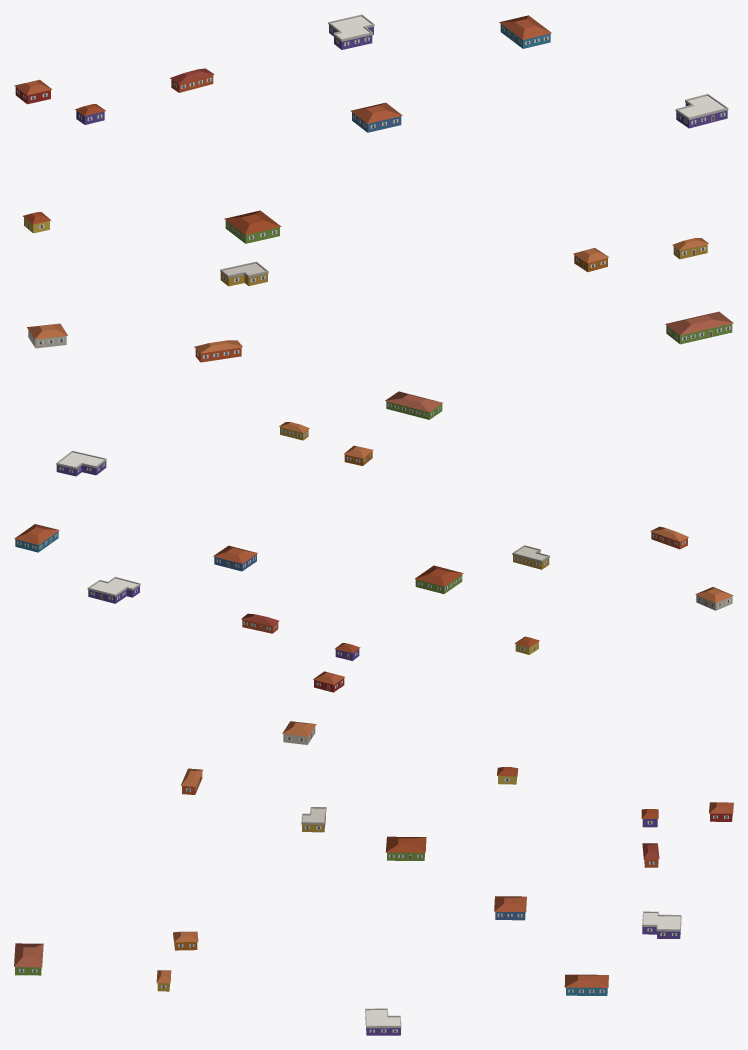
File: msb_sannicolas_17_20.glb
The picture shows the model from 3 angles, top to bottom: view 1: azimuth 30°, elevation 25°; view 2: azimuth 150°, elevation 25°; view 3: azimuth 270°, elevation 25°; orthographic projection. The views are drawn at different scales.
Visible parts, largest first — view 1: msb_sannicolas_17_20_lod0; view 2: msb_sannicolas_17_20_lod0; view 3: msb_sannicolas_17_20_lod0.
Part boxes in pixels (bbox=[...]): msb_sannicolas_17_20_lod0: bbox=[14, 14, 733, 362]; msb_sannicolas_17_20_lod0: bbox=[14, 391, 733, 692]; msb_sannicolas_17_20_lod0: bbox=[14, 721, 733, 1035].
Size of what is drawn, in the model's own units: 283 by 18.54 by 265.
Materials: 3 (1 with a texture image).
